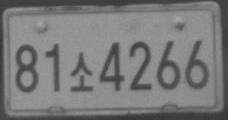1: (43, 42, 67, 92)
2: (128, 39, 152, 91)
4: (98, 41, 125, 92)
6: (155, 41, 181, 91), (184, 40, 210, 89)
8: (14, 42, 39, 93)
소: (69, 51, 93, 92)
